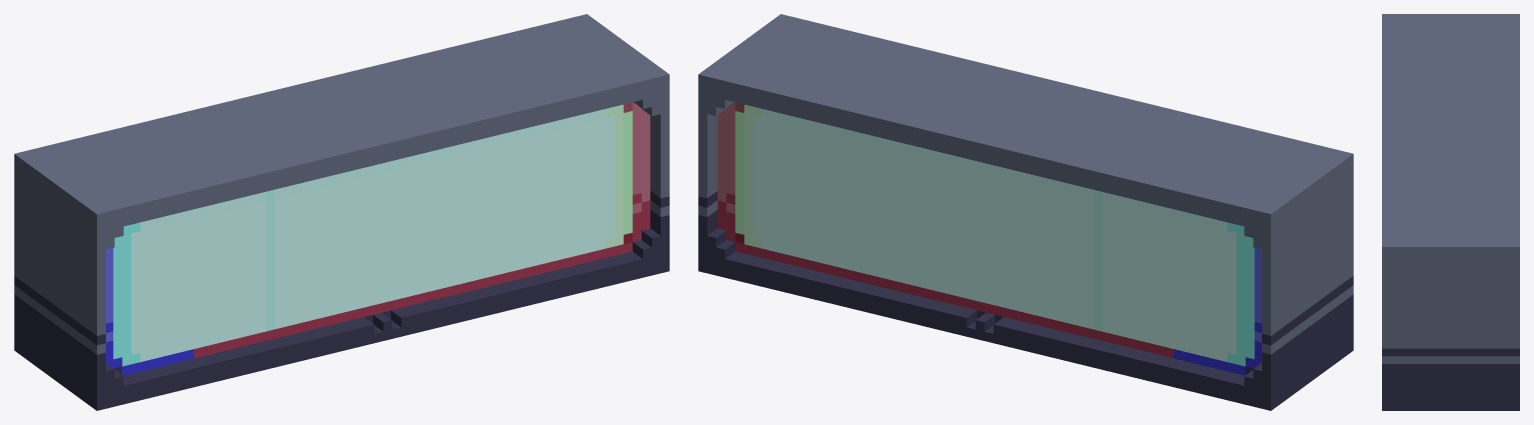
The model's file is telsiz_prop_bir_onyuz.fbx.
3 renders of one model, left to right at view 1: azimuth 30°, elevation 25°; view 2: azimuth 150°, elevation 25°; view 3: azimuth 270°, elevation 25°, orthographic. The views are drawn at different scales.
Visible parts, largest first — view 1: generated; view 2: generated; view 3: generated.
Part boxes in pixels (<box>): generated: <box>14,14,669,410</box>; generated: <box>698,14,1353,410</box>; generated: <box>1382,14,1519,410</box>.
Size of the model in its own units: 640 by 210 by 160.
